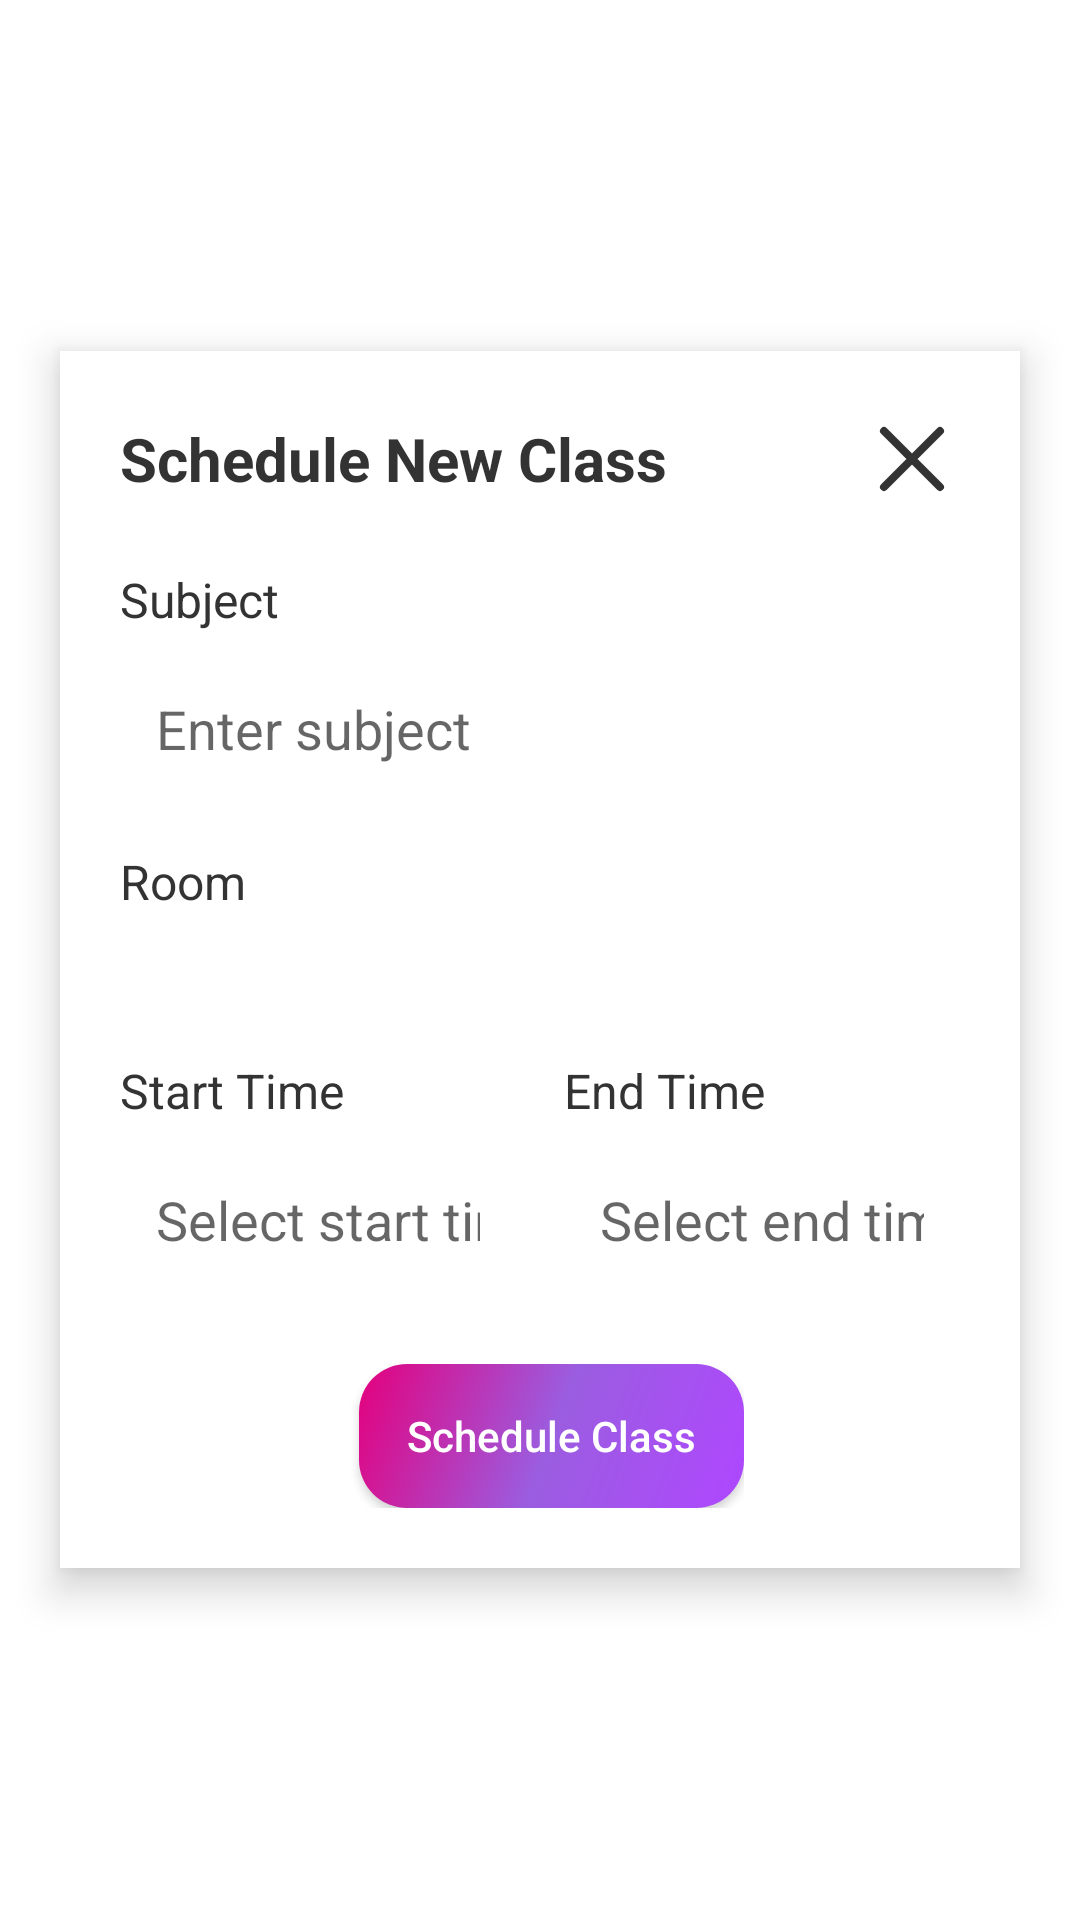

Icons on this 1080px×1920px Android screen, each with its box as [x1,y1,x2,y2]:
Close: [879,426,944,491]
